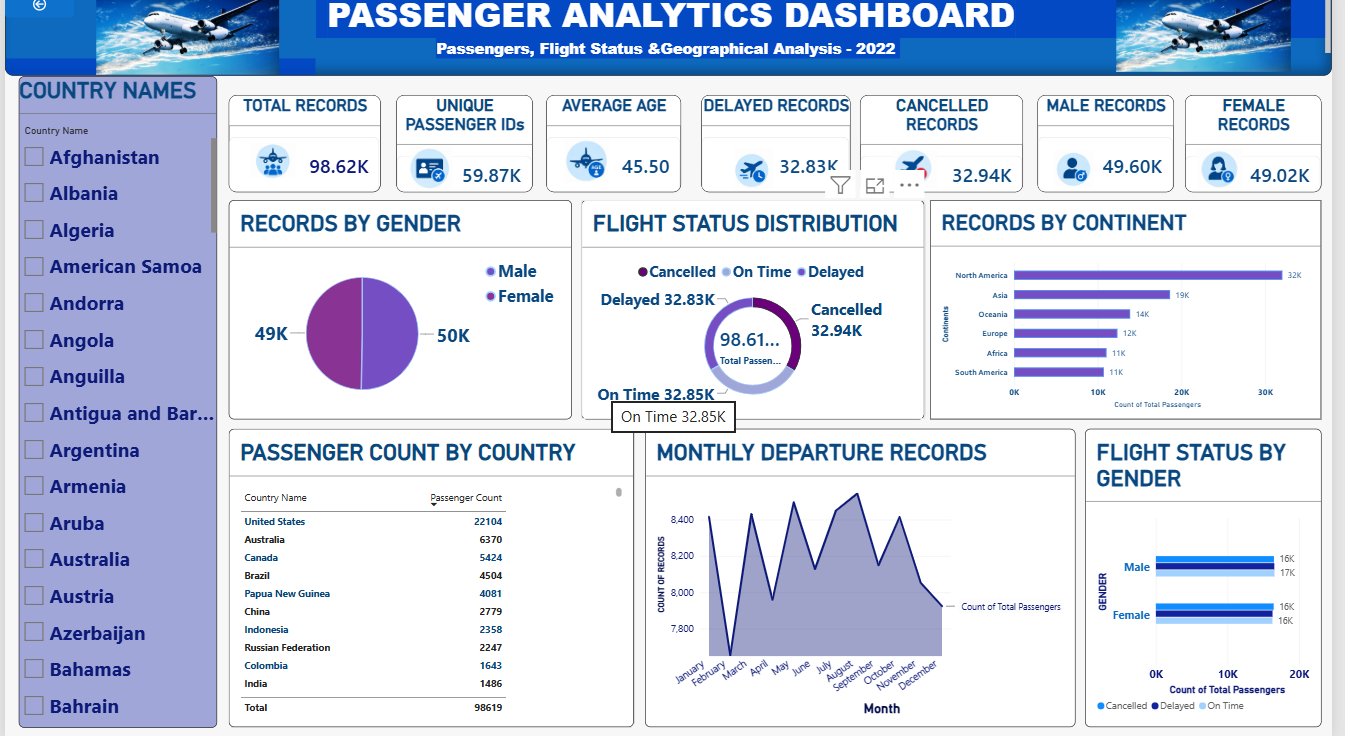

The dashboard page shown, as its layout file describes it:
{"tool":"powerbi","page":{"name":"Page 1","canvas":[1920,1080],"ordinal":0},"visuals":[{"type":"textbox","box":[0,0,1920.4,124.2],"z":0},{"type":"cardVisual","title":"TOTAL RECORDS","fields":{"Data":["CountNonNull(Airline_Data.Total Passengers)"]},"box":[323.8,152.7,219.9,140.5],"z":1000},{"type":"cardVisual","title":"UNIQUE PASSENGER IDs","fields":{"Data":["Airline_Data.UNIQUE PASSENGERS IDs"]},"box":[566.1,152.7,197.5,140.5],"z":2000},{"type":"cardVisual","title":"AVERAGE AGE","fields":{"Data":["Airline_Data.Average Age"]},"box":[784.1,152.7,195.5,140.5],"z":3000},{"type":"cardVisual","title":"DELAYED RECORDS","fields":{"Data":["Airline_Data.Delayed Records"]},"box":[1008.1,152.7,215.9,140.5],"z":4000},{"type":"cardVisual","title":"CANCELLED RECORDS","fields":{"Data":["Airline_Data.Cancelled Records"]},"box":[1238.2,152.7,236.2,140.5],"z":5000},{"type":"cardVisual","title":"MALE RECORDS","fields":{"Data":["Airline_Data.Male Record"]},"box":[1494.8,152.7,197.5,140.5],"z":6000},{"type":"cardVisual","title":"FEMALE RECORDS","fields":{"Data":["Airline_Data.Female Record"]},"box":[1708.6,152.7,197.5,140.5],"z":7000},{"type":"image","box":[1608.8,0,252.5,122.2],"z":8000},{"type":"image","box":[342.1,215.9,91.6,65.2],"z":9000},{"type":"image","box":[556,226.1,122.2,63.1],"z":10000},{"type":"image","box":[784.1,215.9,118.5,63.3],"z":11000},{"type":"image","box":[1036.6,230.1,93.7,57],"z":12000},{"type":"image","box":[1262.6,232.2,107.9,55],"z":13000},{"type":"image","box":[1494.8,232.2,105.9,52.9],"z":14000},{"type":"image","box":[1708.6,230.1,100.1,57.2],"z":15000},{"type":"image","box":[132.4,2,264.7,122.2],"z":16000},{"type":"donutChart","title":"FLIGHT STATUS DISTRIBUTION","fields":{"Category":["Airline_Data.Flight Status"],"Y":["CountNonNull(Airline_Data.Passenger ID)"]},"box":[835,303.4,496.9,317.7],"z":17000},{"type":"barChart","title":"RECORDS BY CONTINENT","fields":{"Category":["Airline_Data.Continents"],"Y":["CountNonNull(Airline_Data.Passenger ID)"]},"box":[1340,303.4,566.1,317.7],"z":18000},{"type":"pieChart","title":"RECORDS BY GENDER","fields":{"Category":["Airline_Data.Gender"],"Y":["Airline_Data.Total Rows"]},"box":[323.8,303.4,496.9,317.7],"z":19000},{"type":"lineChart","title":"MONTHLY DEPARTURE RECORDS","fields":{"Category":["Airline_Data.Departure Date.Variation.Date Hierarchy.Month"],"Y":["CountNonNull(Airline_Data.Total Passengers)"]},"box":[926.6,635.4,623.2,431.7],"z":20000},{"type":"clusteredBarChart","title":"FLIGHT STATUS BY GENDER","fields":{"Category":["Airline_Data.Gender"],"Series":["Airline_Data.Flight Status"],"Y":["CountNonNull(Airline_Data.Total Passengers)"]},"box":[1564,635.4,342.1,431.7],"z":21000},{"type":"actionButton","box":[0,0,100,40],"z":22000},{"type":"tableEx","title":"PASSENGER COUNT BY COUNTRY","fields":{"Values":["Airline_Data.Country Name","Airline_Data.Passenger Count"]},"box":[323.8,635.4,586.5,431.7],"z":24000},{"type":"slicer","title":"COUNTRY NAMES","fields":{"Values":["Airline_Data.Country Name"]},"box":[20.4,124.2,287.1,942.9],"z":26000}]}

Visuals, with their boxes in screenshot pixels (x1, y1, x2, y2), scaled from the page's 1920x1080 canvas onto the 1345x736 screenshot:
textbox: box(0, 0, 1344, 85)
"TOTAL RECORDS" cardVisual: box(227, 104, 381, 200)
"UNIQUE PASSENGER IDs" cardVisual: box(397, 104, 535, 200)
"AVERAGE AGE" cardVisual: box(549, 104, 686, 200)
"DELAYED RECORDS" cardVisual: box(706, 104, 857, 200)
"CANCELLED RECORDS" cardVisual: box(867, 104, 1033, 200)
"MALE RECORDS" cardVisual: box(1047, 104, 1185, 200)
"FEMALE RECORDS" cardVisual: box(1197, 104, 1335, 200)
image: box(1127, 0, 1304, 83)
image: box(240, 147, 304, 192)
image: box(389, 154, 475, 197)
image: box(549, 147, 632, 190)
image: box(726, 157, 792, 196)
image: box(884, 158, 960, 196)
image: box(1047, 158, 1121, 194)
image: box(1197, 157, 1267, 196)
image: box(93, 1, 278, 85)
"FLIGHT STATUS DISTRIBUTION" donutChart: box(585, 207, 933, 423)
"RECORDS BY CONTINENT" barChart: box(939, 207, 1335, 423)
"RECORDS BY GENDER" pieChart: box(227, 207, 575, 423)
"MONTHLY DEPARTURE RECORDS" lineChart: box(649, 433, 1086, 727)
"FLIGHT STATUS BY GENDER" clusteredBarChart: box(1096, 433, 1335, 727)
actionButton: box(0, 0, 70, 27)
"PASSENGER COUNT BY COUNTRY" tableEx: box(227, 433, 638, 727)
"COUNTRY NAMES" slicer: box(14, 85, 215, 727)
